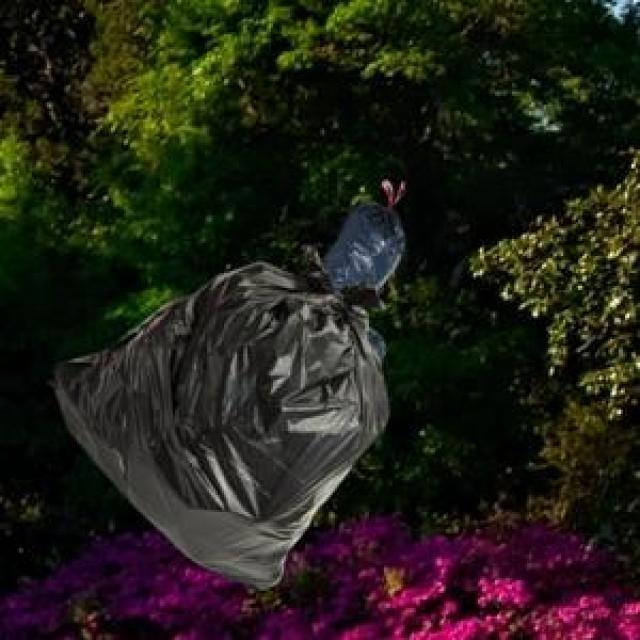waste: (54, 200, 402, 588)
